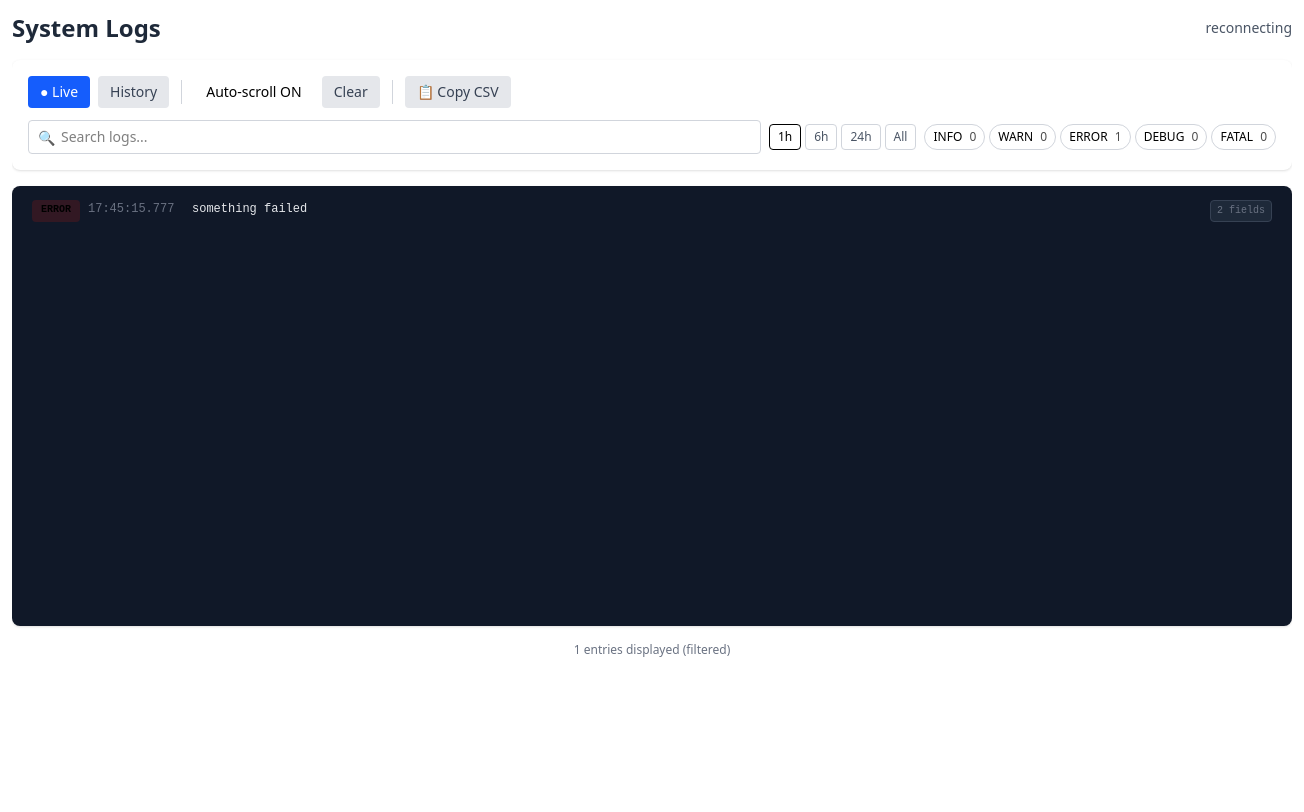
Test: LogsComponent › should expand entry fields on click and collapse on second click
The width and height of the screenshot is (1304, 812).
// Click to expand
Click the button with test id "log-entry-row-0" at (56, 211), box x1=24 y1=198 x2=1280 y2=224
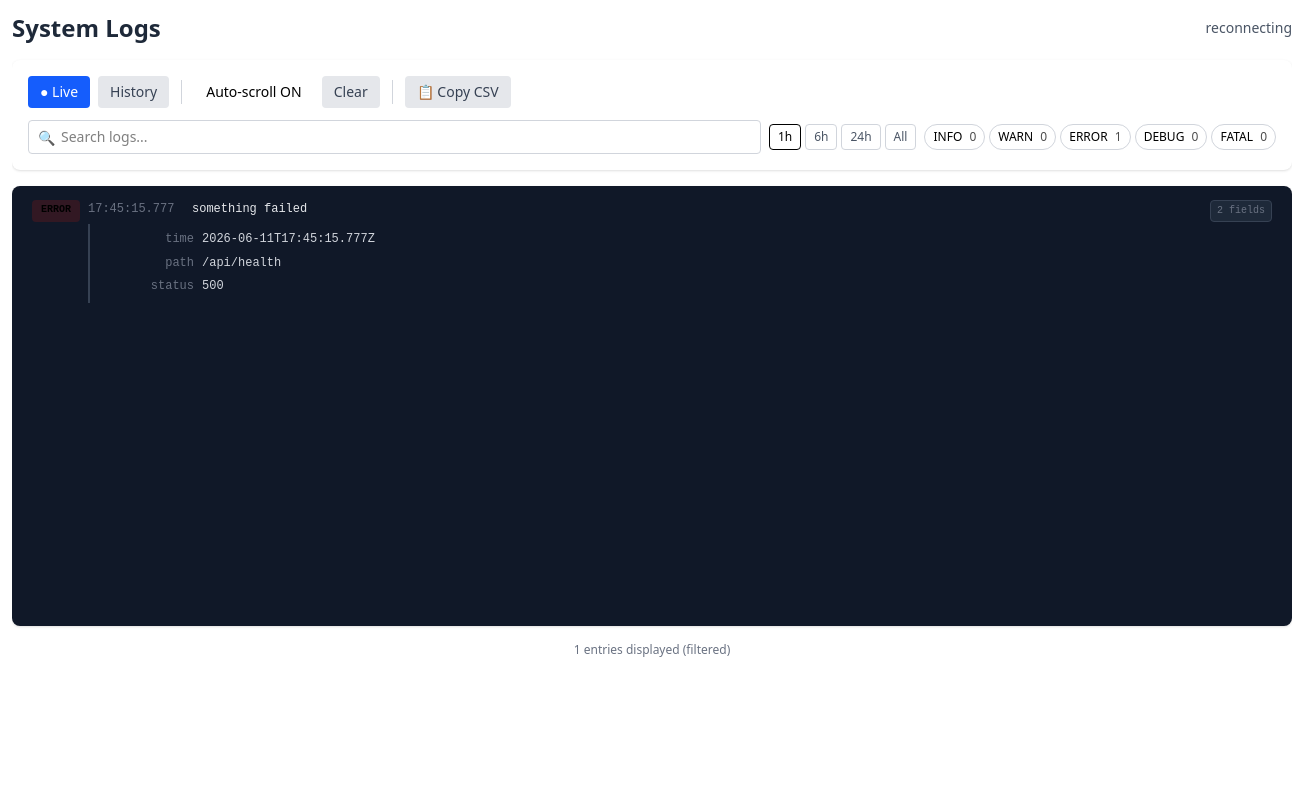
expect the element with test id "log-entry-fields-0" is shown: met, box x1=88 y1=224 x2=1280 y2=303
// Click again to collapse
Click the button with test id "log-entry-row-0" at (56, 211), box x1=24 y1=198 x2=1280 y2=224
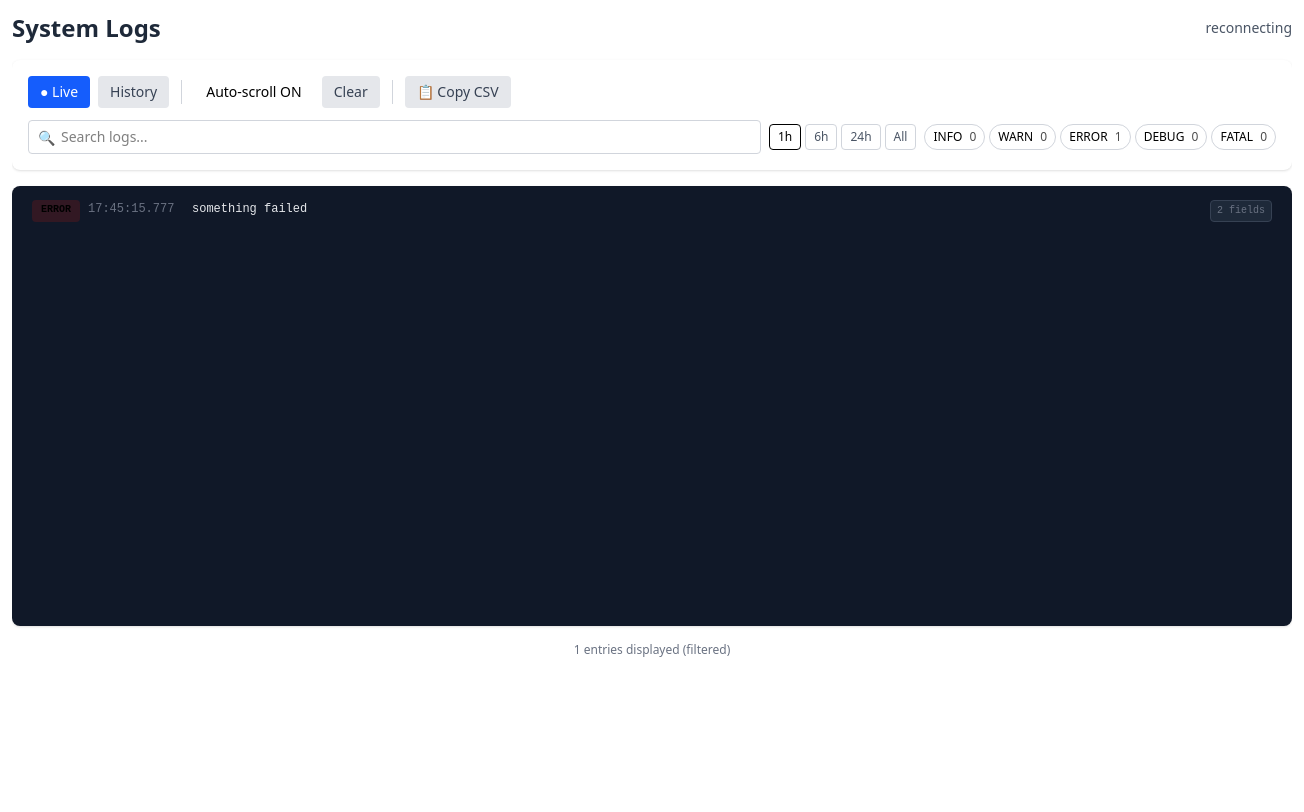
expect the element with test id "log-entry-fields-0" is gone: met
